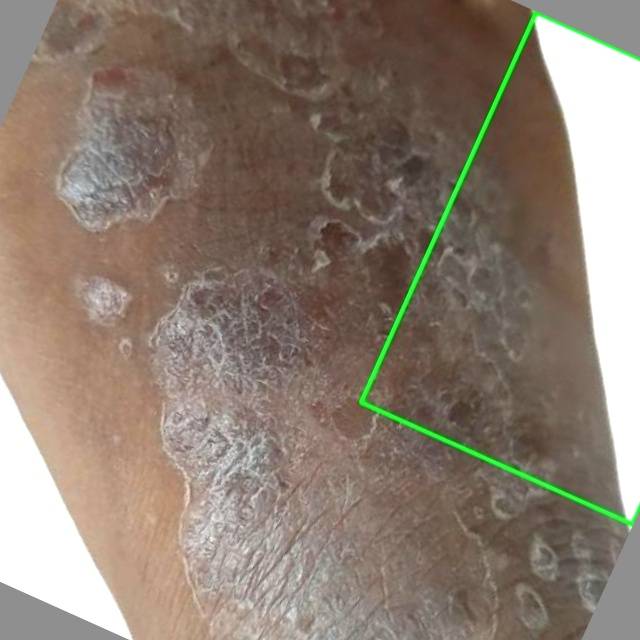Contact Dermatitis: (360, 12, 639, 524)
